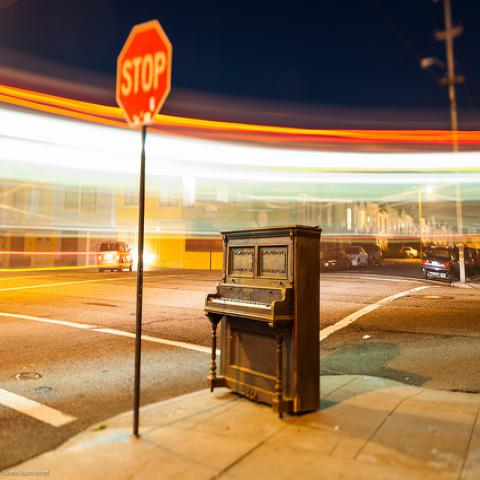car: (419, 249, 460, 285), (97, 240, 133, 274), (320, 248, 350, 272), (452, 247, 474, 276), (345, 244, 369, 268), (360, 243, 382, 267), (400, 246, 419, 259)
